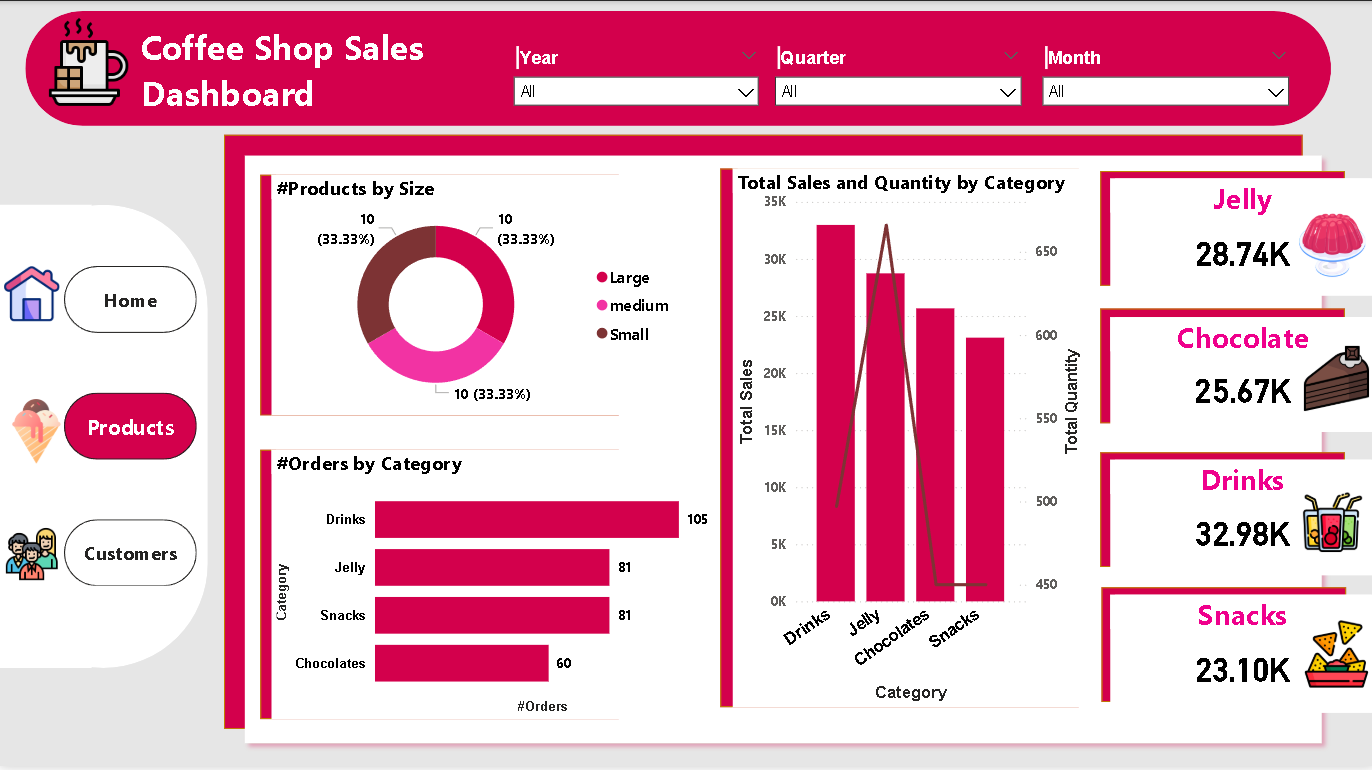

This screenshot's page, from the dashboard's own definition file:
{"tool":"powerbi","page":{"name":"Products","canvas":[1295,720],"ordinal":1},"visuals":[{"type":"shape","box":[24.4,9.3,1229.1,108.1],"z":0},{"type":"shape","box":[0,191.9,196.5,436],"z":1000},{"type":"image","box":[24.4,9.3,119.8,95.3],"z":2000},{"type":"shape","box":[0,191.9,87.2,436],"z":3000},{"type":"textbox","box":[127.9,16.3,355.8,96.5],"z":4000},{"type":"shape","box":[211.6,125.6,1015.1,559.3],"z":5000},{"type":"shape","box":[222.1,136,1031.4,570.9],"z":6000},{"type":"image","box":[0,244.7,61.6,61.6],"z":7000},{"type":"image","box":[0,490.6,61.2,60],"z":8000},{"type":"image","box":[0,368.2,70.6,72.9],"z":9000},{"type":"shape","box":[1036,160.5,230.2,108.1],"z":10000},{"type":"shape","box":[1036,289.5,230.2,108.1],"z":11000},{"type":"shape","box":[1037.2,552.3,230.2,108.1],"z":12000},{"type":"shape","box":[1036,424.4,230.2,108.1],"z":13000},{"type":"shape","box":[245.3,164,337.2,226.7],"z":14000},{"type":"donutChart","fields":{"Y":["Dax measures.#Products"],"Category":["Products.Size"]},"box":[257,164,390.7,226.7],"z":15000},{"type":"card","title":"Snacks","fields":{"Values":["Dax measures.Snacks"]},"box":[1045.4,559.3,250,111],"z":16000},{"type":"card","title":"Drinks","fields":{"Values":["Dax measures.Drinks"]},"box":[1045.4,431.4,250,109],"z":17000},{"type":"slicer","fields":{"Values":["Sales.Date.Variation.Date Hierarchy.Year"]},"box":[474.4,37.2,251.2,67.4],"z":18000},{"type":"slicer","fields":{"Values":["Sales.Date.Variation.Date Hierarchy.Quarter"]},"box":[719.8,37.2,252.3,67.4],"z":19000},{"type":"slicer","fields":{"Values":["Sales.Date.Variation.Date Hierarchy.Month"]},"box":[972.1,37.2,252.3,67.4],"z":20000},{"type":"pageNavigator","box":[61.6,249.5,125.6,303.5],"z":21000},{"type":"shape","box":[245.3,422.1,337.2,253.5],"z":22000},{"type":"barChart","title":"#Orders by Category","fields":{"Category":["Products.Category"],"Y":["Dax measures.#Orders"]},"box":[257,422.1,418.6,253.5],"z":23000},{"type":"shape","box":[679.1,158.1,337.2,507],"z":24000},{"type":"lineStackedColumnComboChart","title":"Total Sales and Quantity by Category","fields":{"Category":["Products.Category"],"Y":["Dax measures.Total Sales"],"Y2":["Dax measures.Total Quantity"]},"box":[690.7,158.1,333.7,507],"z":25000},{"type":"card","title":"Jelly","fields":{"Values":["Dax measures.Jelly"]},"box":[1045.4,167.4,250,110.5],"z":26000},{"type":"card","title":"Chocolate","fields":{"Values":["Dax measures.Chocolates"]},"box":[1045.4,297.7,250,108.1],"z":27000},{"type":"image","box":[1222.3,569.4,72.9,90.6],"z":28000},{"type":"image","box":[1222.3,318.8,72.9,72.9],"z":29000},{"type":"image","box":[1215.2,191.8,80,76.5],"z":30000},{"type":"image","box":[1222.3,448.2,65.9,84.7],"z":31000}]}

Visuals, with their boxes in screenshot pixels (x1, y1, x2, y2), scaled from the page's 1295x720 canvas onto the 1372x770 screenshot:
shape: Rect(26, 10, 1328, 126)
shape: Rect(0, 205, 208, 672)
image: Rect(26, 10, 153, 112)
shape: Rect(0, 205, 92, 672)
textbox: Rect(136, 17, 512, 121)
shape: Rect(224, 134, 1300, 732)
shape: Rect(235, 145, 1328, 756)
image: Rect(0, 262, 65, 328)
image: Rect(0, 525, 65, 589)
image: Rect(0, 394, 75, 472)
shape: Rect(1098, 172, 1341, 287)
shape: Rect(1098, 310, 1341, 425)
shape: Rect(1099, 591, 1343, 706)
shape: Rect(1098, 454, 1341, 569)
shape: Rect(260, 175, 617, 418)
donutChart - Dax measures.#Products x Products.Size: Rect(272, 175, 686, 418)
"Snacks" card: Rect(1108, 598, 1371, 717)
"Drinks" card: Rect(1108, 461, 1371, 578)
slicer - Sales.Date.Variation.Date Hierarchy.Year: Rect(503, 40, 769, 112)
slicer - Sales.Date.Variation.Date Hierarchy.Quarter: Rect(763, 40, 1030, 112)
slicer - Sales.Date.Variation.Date Hierarchy.Month: Rect(1030, 40, 1297, 112)
pageNavigator: Rect(65, 267, 198, 591)
shape: Rect(260, 451, 617, 723)
"#Orders by Category" barChart: Rect(272, 451, 716, 723)
shape: Rect(719, 169, 1077, 711)
"Total Sales and Quantity by Category" lineStackedColumnComboChart: Rect(732, 169, 1085, 711)
"Jelly" card: Rect(1108, 179, 1371, 297)
"Chocolate" card: Rect(1108, 318, 1371, 434)
image: Rect(1295, 609, 1371, 706)
image: Rect(1295, 341, 1371, 419)
image: Rect(1287, 205, 1371, 287)
image: Rect(1295, 479, 1365, 570)
